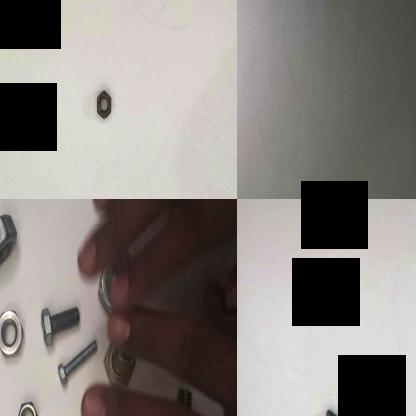Bolts: (54, 332, 100, 386), (38, 296, 84, 350), (320, 405, 353, 416)
NUTS: (0, 299, 28, 360), (0, 208, 16, 276), (92, 88, 115, 120), (11, 392, 41, 416)
